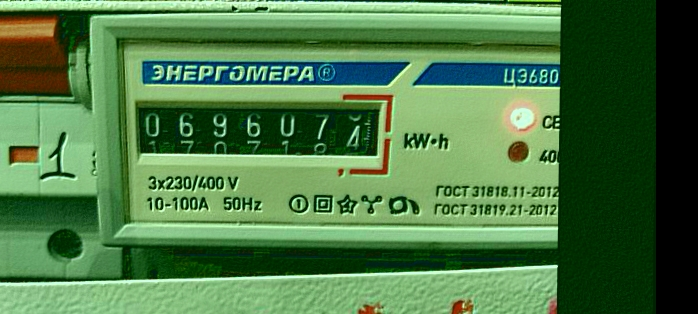0: (142, 111, 164, 139), (279, 110, 298, 139), (178, 112, 196, 138)
4: (345, 124, 363, 152)
6: (244, 109, 263, 140)
7: (312, 111, 331, 141)
9: (211, 111, 230, 139)
screen: (121, 88, 396, 175)
